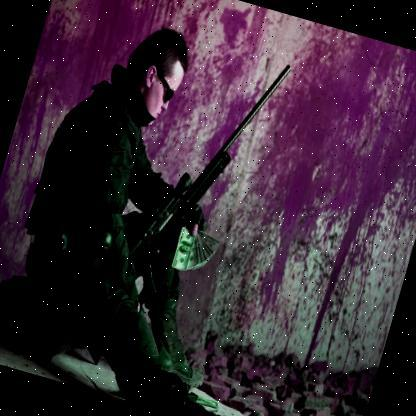rifle: (125, 33, 293, 312)
